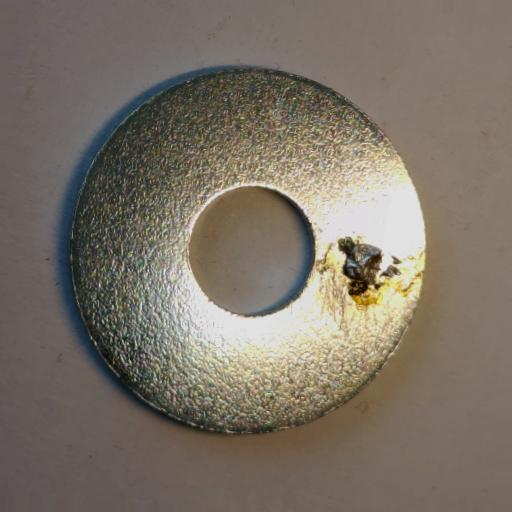excess_material: (336, 236, 401, 299)
